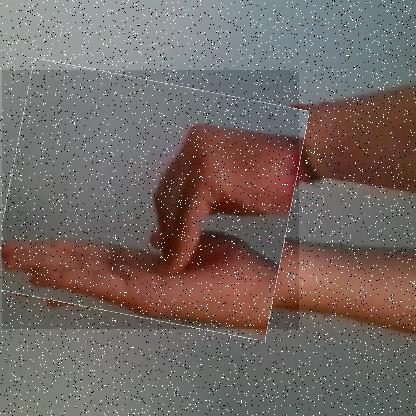Z: (1, 70, 299, 330)
